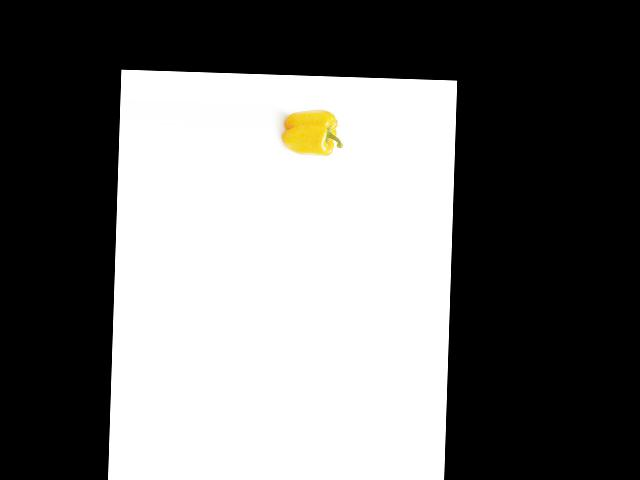bell_pepper: (280, 107, 346, 162)
